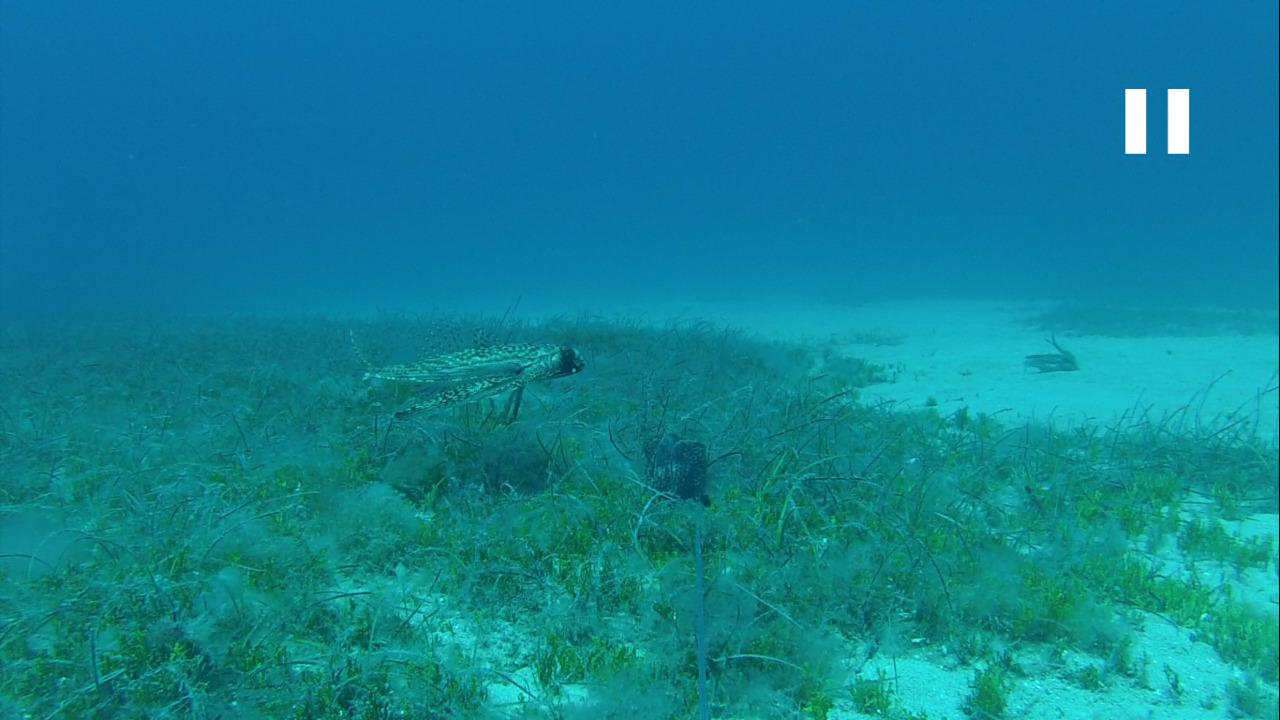dactylopterus: (336, 323, 586, 428)
